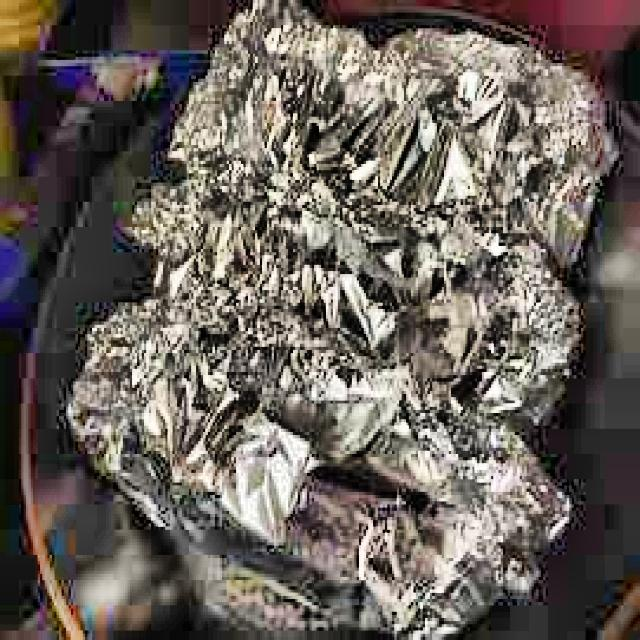Foil: (60, 0, 619, 640)
